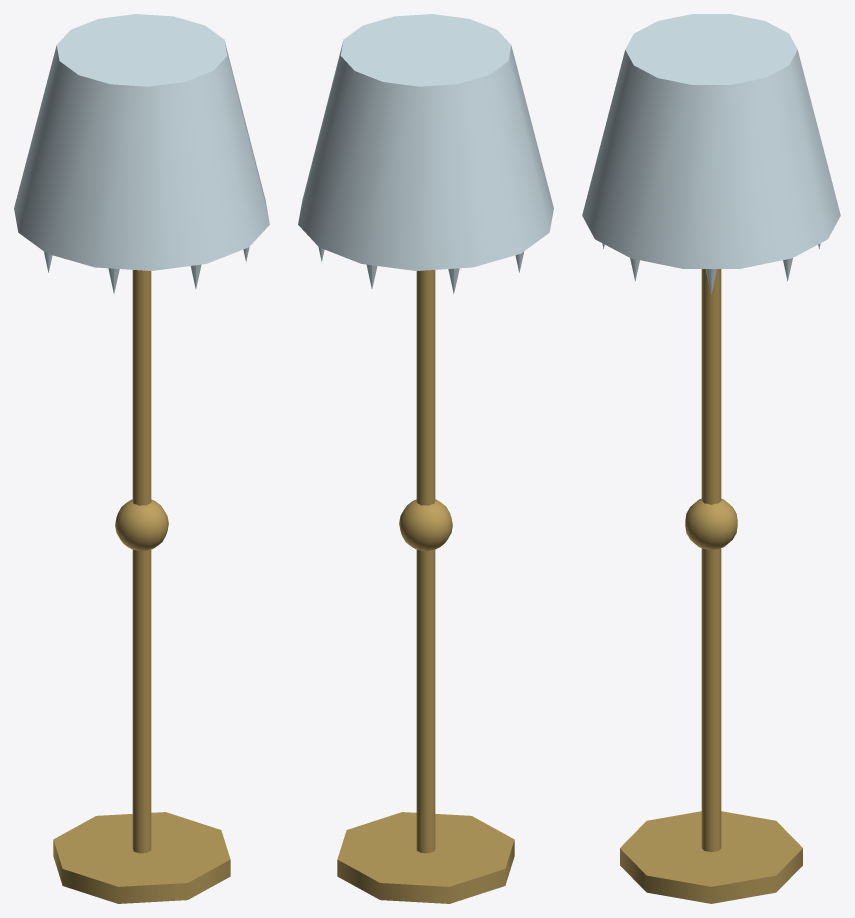
Rendered from luminaria-cristal.glb.
The picture shows the model from 3 angles, left to right: view 1: azimuth 30°, elevation 25°; view 2: azimuth 150°, elevation 25°; view 3: azimuth 270°, elevation 25°; orthographic projection.
Parts seen in each view (by area): view 1: luminaria-cristal_malha; view 2: luminaria-cristal_malha; view 3: luminaria-cristal_malha.
Part boxes in pixels (left/top/right/bottom): luminaria-cristal_malha: left=14, top=14, right=269, bottom=903; luminaria-cristal_malha: left=298, top=14, right=553, bottom=903; luminaria-cristal_malha: left=582, top=14, right=840, bottom=903.
Size of the model in its own units: 0.468 by 1.67 by 0.48.
